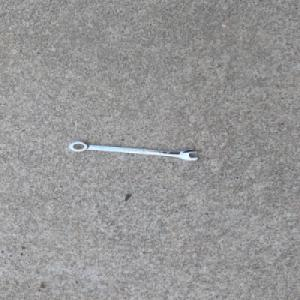Wrench: (66, 140, 199, 161)
